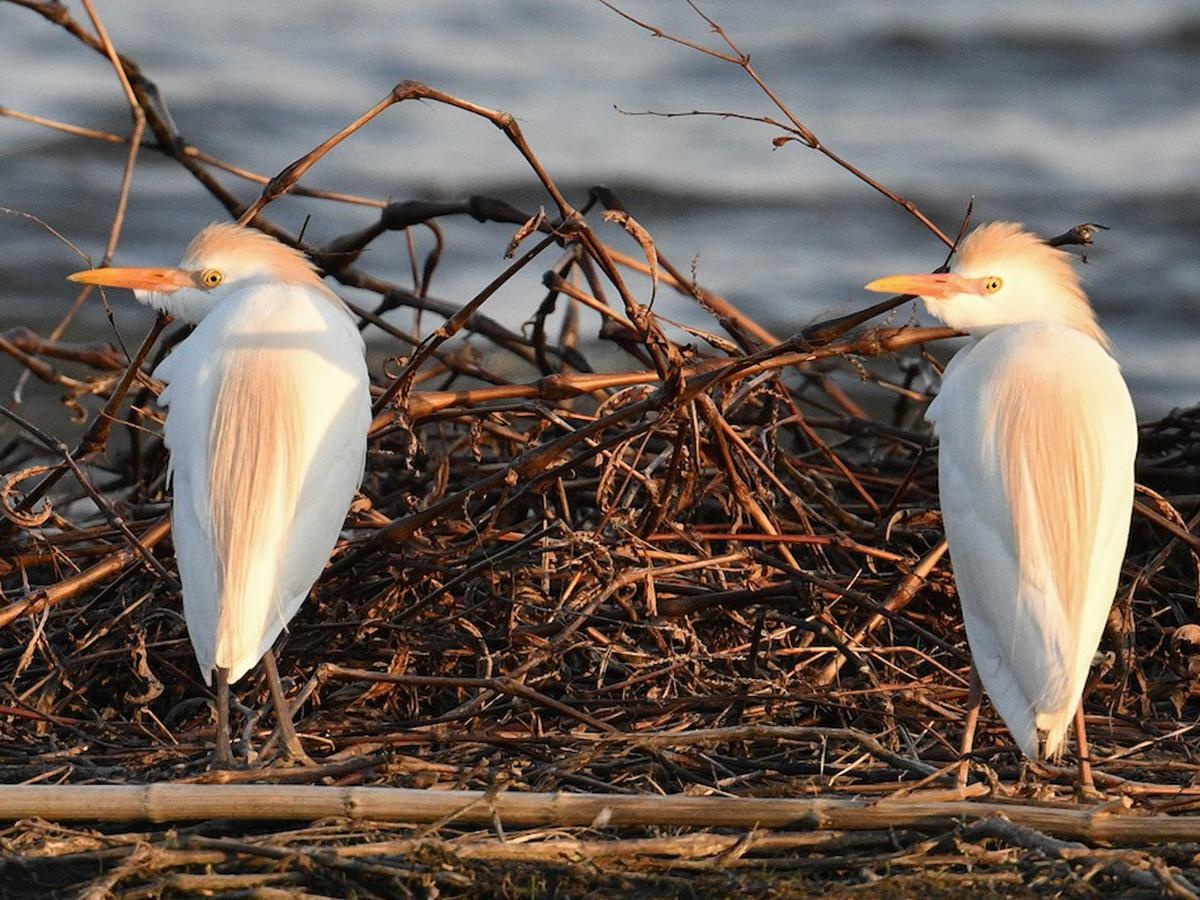egret: (67, 203, 376, 748), (859, 201, 1130, 782)
